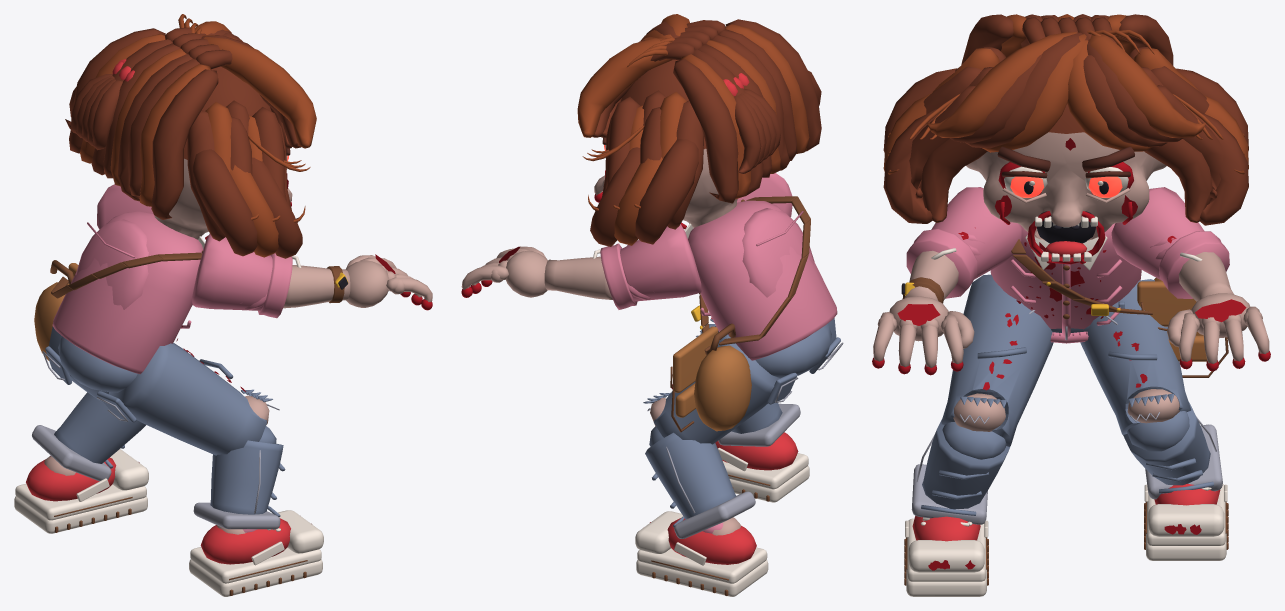
The picture shows the model from 3 angles, left to right: view 1: azimuth 30°, elevation 25°; view 2: azimuth 150°, elevation 25°; view 3: azimuth 270°, elevation 25°; orthographic projection. The views are drawn at different scales.
Visible parts, largest first — view 1: head__pal_hairAuburn, torso__pal_cardiganRose, head__pal_hairCopper, legR__pal_denim, armR__pal_cardiganRose, footR__pal_picketWhite, footL__pal_picketWhite, shinR__pal_denim, shinL__pal_denim, handR__pal_infectedSkin, footR__pal_survivorRed, hip__pal_denim (+9 smaller); view 2: head__pal_hairAuburn, torso__pal_cardiganRose, head__pal_hairCopper, hip__pal_woodWarm, armL__pal_cardiganRose, footL__pal_picketWhite, shinL__pal_denim, legL__pal_denim, handL__pal_infectedSkin, footR__pal_picketWhite, foreArmL__pal_infectedSkin, footL__pal_survivorRed (+9 smaller); view 3: head__pal_hairAuburn, head__pal_hairCopper, legR__pal_denim, head__pal_infectedSkin, legL__pal_denim, torso__pal_cardiganRose, armL__pal_cardiganRose, armR__pal_cardiganRose, shinR__pal_denim, footR__pal_picketWhite, shinL__pal_denim, footL__pal_picketWhite (+20 smaller).
Boxes of the visible parts, <box> form: head__pal_hairAuburn: <box>65,27,302,258</box>; torso__pal_cardiganRose: <box>52,211,203,374</box>; head__pal_hairCopper: <box>80,14,316,257</box>; legR__pal_denim: <box>97,343,272,455</box>; armR__pal_cardiganRose: <box>192,233,292,318</box>; footR__pal_picketWhite: <box>189,510,323,596</box>; footL__pal_picketWhite: <box>14,449,148,533</box>; shinR__pal_denim: <box>210,426,285,517</box>; shinL__pal_denim: <box>54,392,145,468</box>; handR__pal_infectedSkin: <box>346,255,432,307</box>; footR__pal_survivorRed: <box>200,518,290,564</box>; hip__pal_denim: <box>58,337,137,392</box>; head__pal_hairAuburn: <box>590,19,821,246</box>; torso__pal_cardiganRose: <box>688,200,837,360</box>; head__pal_hairCopper: <box>577,14,809,245</box>; hip__pal_woodWarm: <box>673,326,751,431</box>; armL__pal_cardiganRose: <box>600,224,701,309</box>; footL__pal_picketWhite: <box>635,511,768,596</box>; shinL__pal_denim: <box>645,426,735,527</box>; legL__pal_denim: <box>643,334,797,444</box>; handL__pal_infectedSkin: <box>461,246,547,297</box>; footR__pal_picketWhite: <box>718,447,809,502</box>; foreArmL__pal_infectedSkin: <box>544,256,612,299</box>; footL__pal_survivorRed: <box>667,518,756,564</box>; head__pal_hairAuburn: <box>883,14,1248,225</box>; head__pal_hairCopper: <box>883,14,1248,174</box>; legR__pal_denim: <box>941,274,1053,446</box>; head__pal_infectedSkin: <box>966,132,1166,240</box>; legL__pal_denim: <box>1080,279,1191,434</box>; torso__pal_cardiganRose: <box>990,223,1141,343</box>; armL__pal_cardiganRose: <box>1111,187,1229,298</box>; armR__pal_cardiganRose: <box>906,187,1022,298</box>; shinR__pal_denim: <box>921,419,1010,515</box>; footR__pal_picketWhite: <box>905,517,988,596</box>; shinL__pal_denim: <box>1123,402,1214,493</box>; footL__pal_picketWhite: <box>1144,484,1227,560</box>.
Size of what is drawn, in the model's own units: 0.9231 by 1.53 by 1.01.
